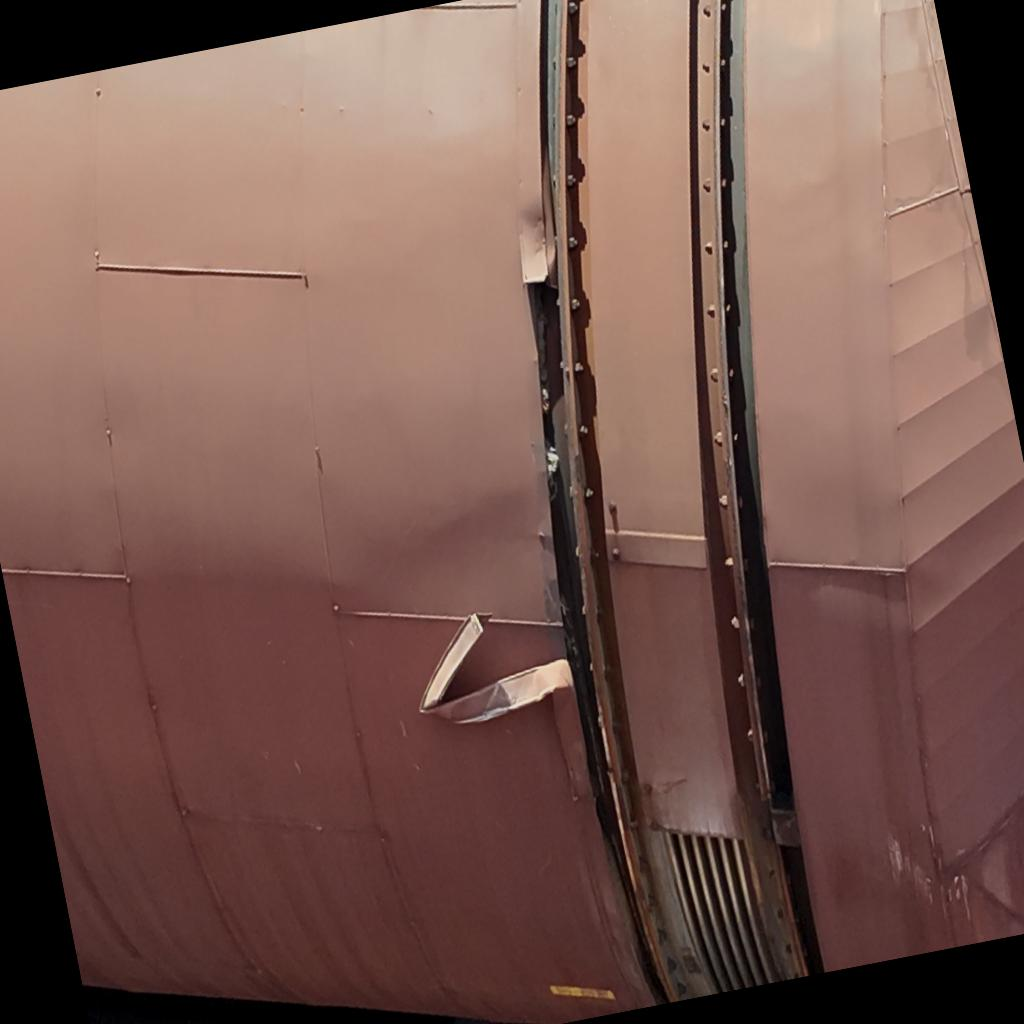Failures: (302, 102, 768, 992)
